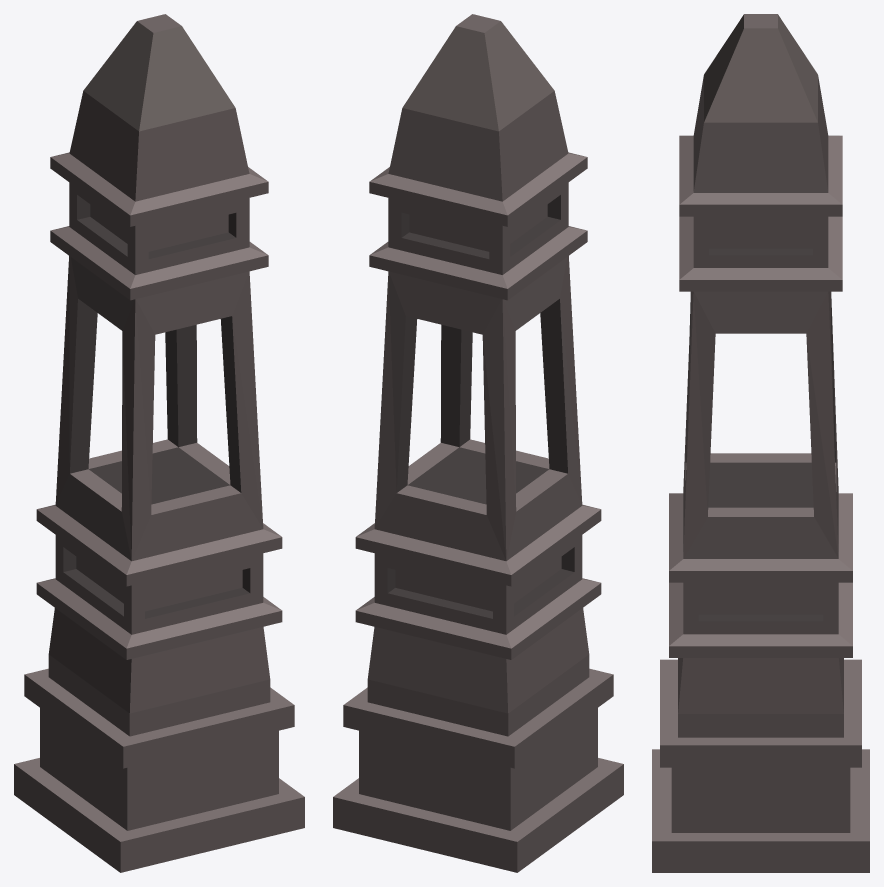
Rendered from wilderness-obelisk.gltf.
3 views of the same model, side by side, from view 1: azimuth 30°, elevation 25°; view 2: azimuth 150°, elevation 25°; view 3: azimuth 270°, elevation 25° (orthographic). The views are drawn at different scales.
Bounding box in the file's own units: 168 × 686 × 168.
Materials: 1 (1 with a texture image).
